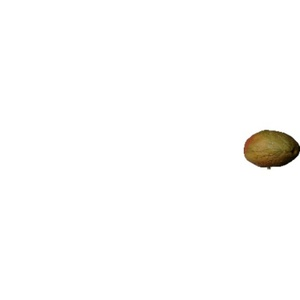mamão: (243, 129, 299, 170)
